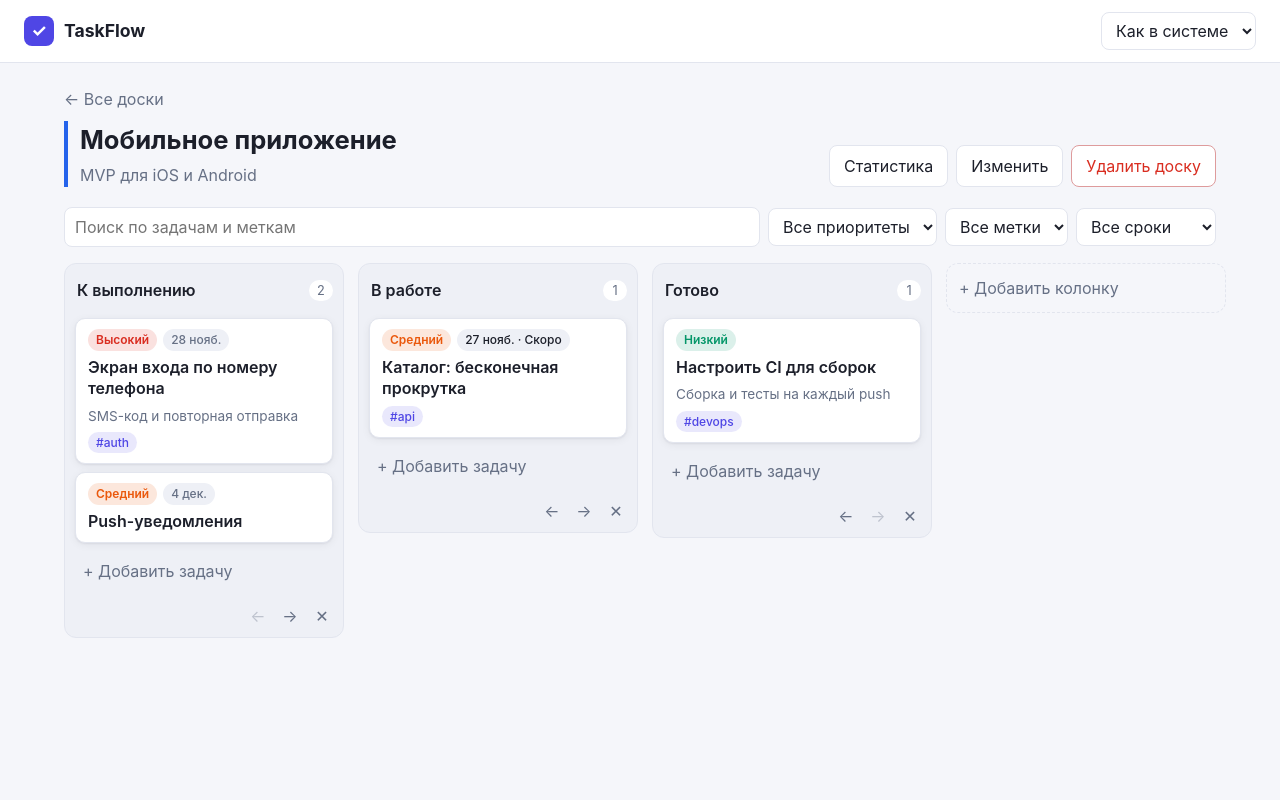
it: задачи на доске › создаёт задачу в колонке с меткой и приоритетом
Click the 1st button "+ Добавить задачу" at {"x": 498, "y": 466}, box [369, 446, 627, 486]
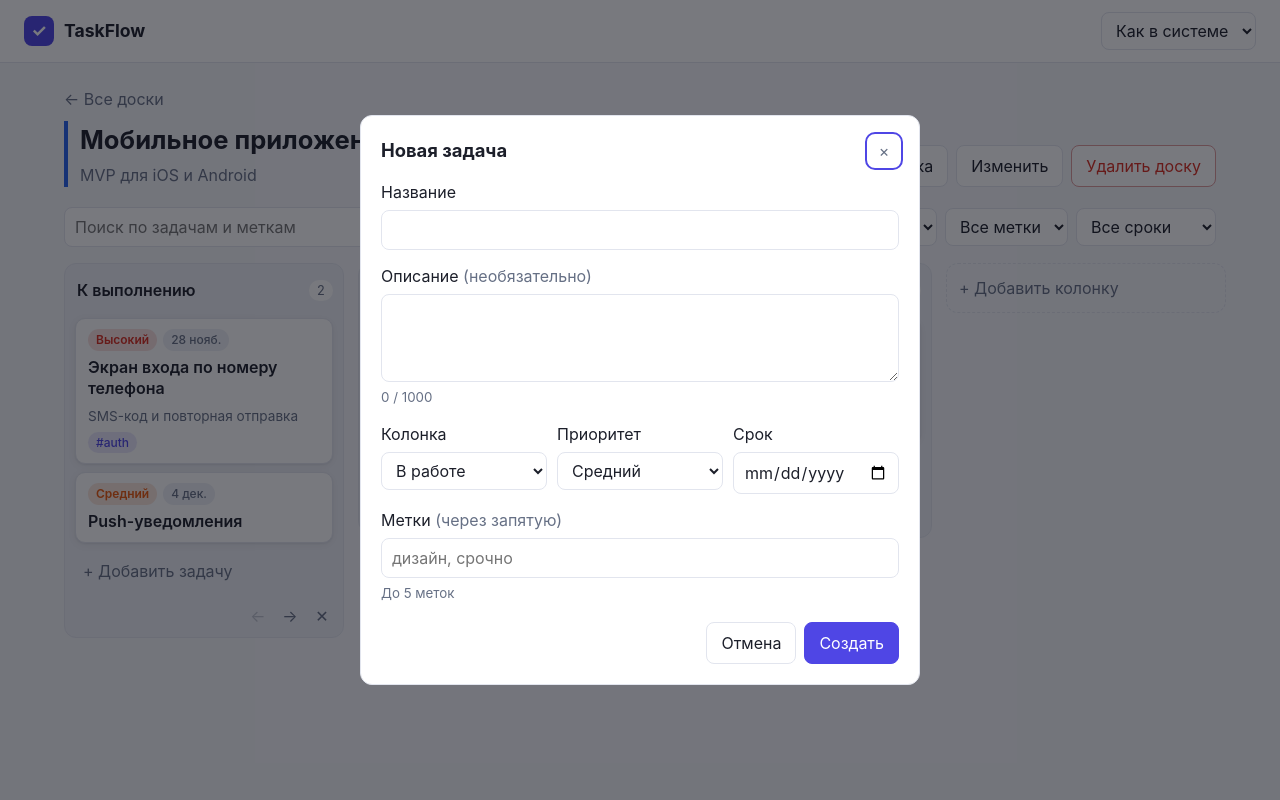
Click the button "Создать" at {"x": 852, "y": 643}, box [804, 622, 899, 664]
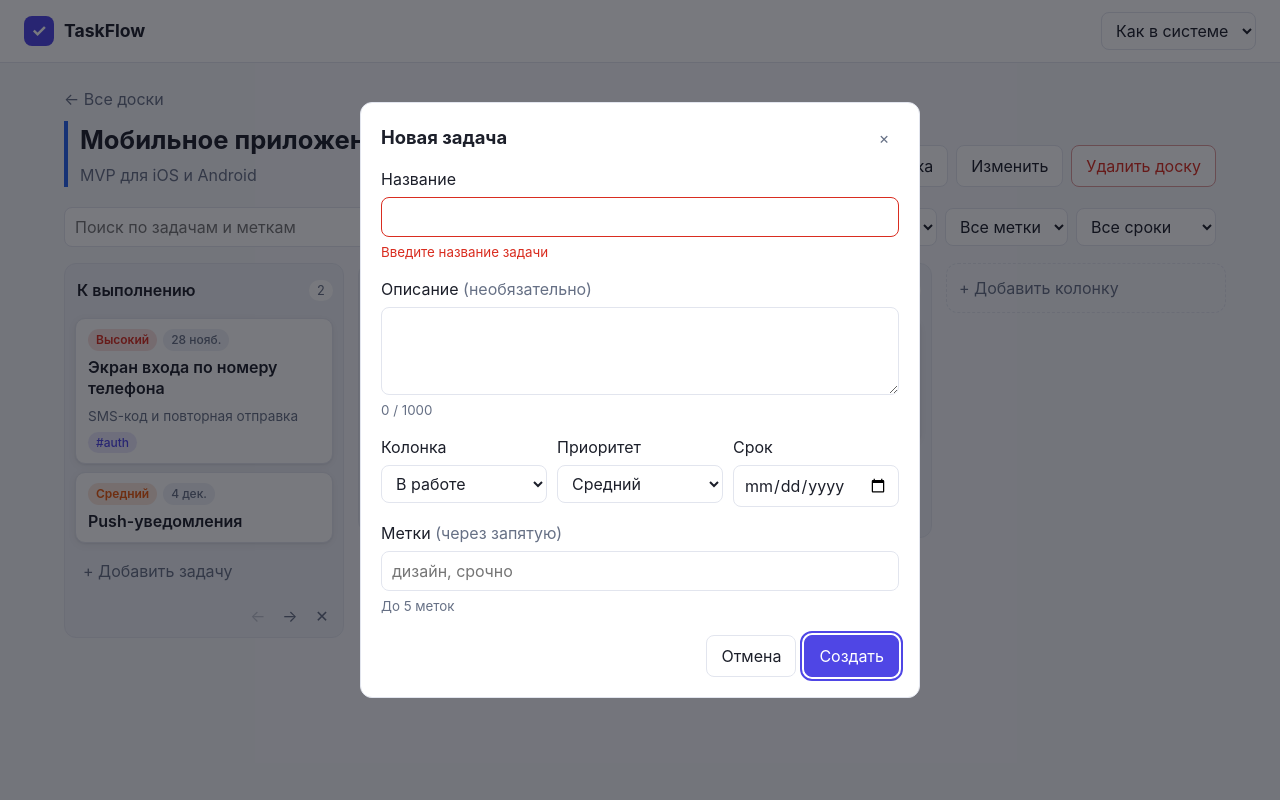
expect the text "Введите название задачи" is shown: met, box [381, 244, 548, 260]
Type "Оплата картой" into the field labelled "Название" at {"x": 640, "y": 217}, box [381, 197, 899, 237]
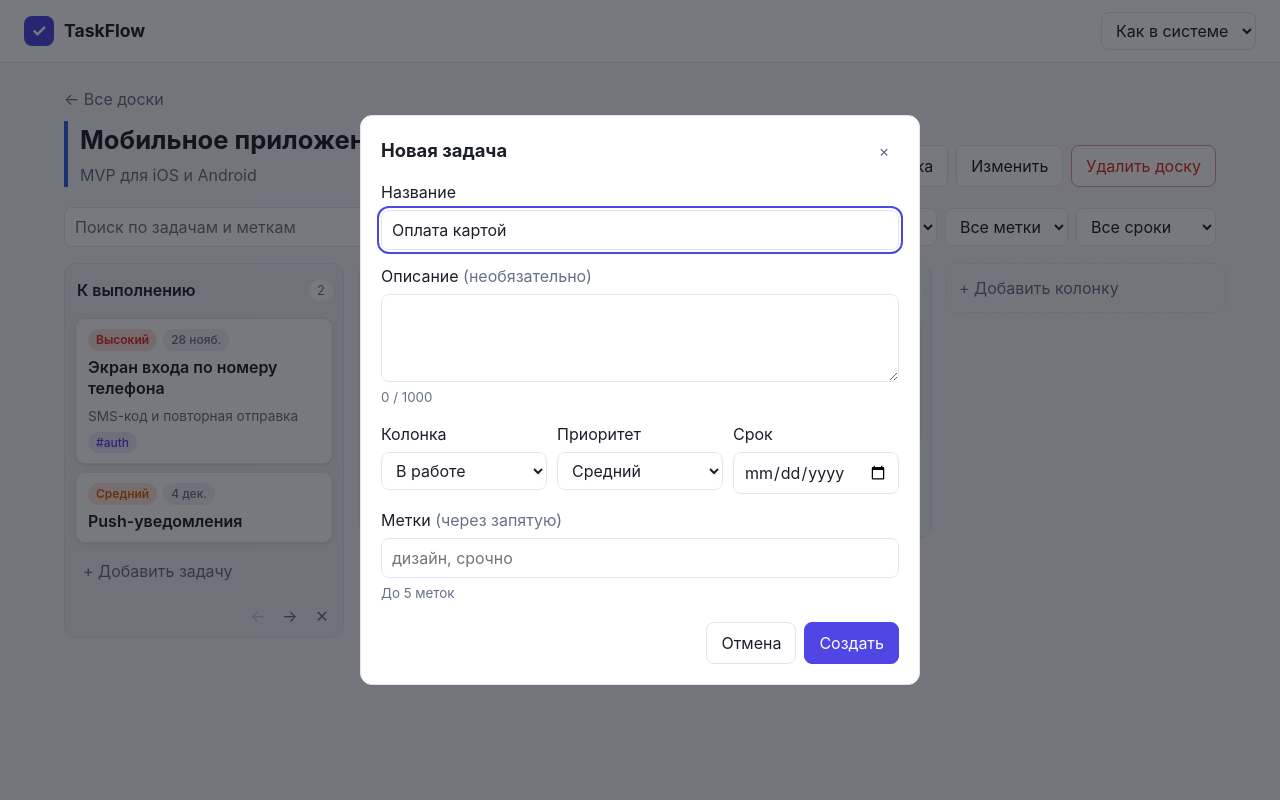
Select "Высокий" in the dropdown labelled "Приоритет" at {"x": 640, "y": 471}, box [557, 452, 723, 490]
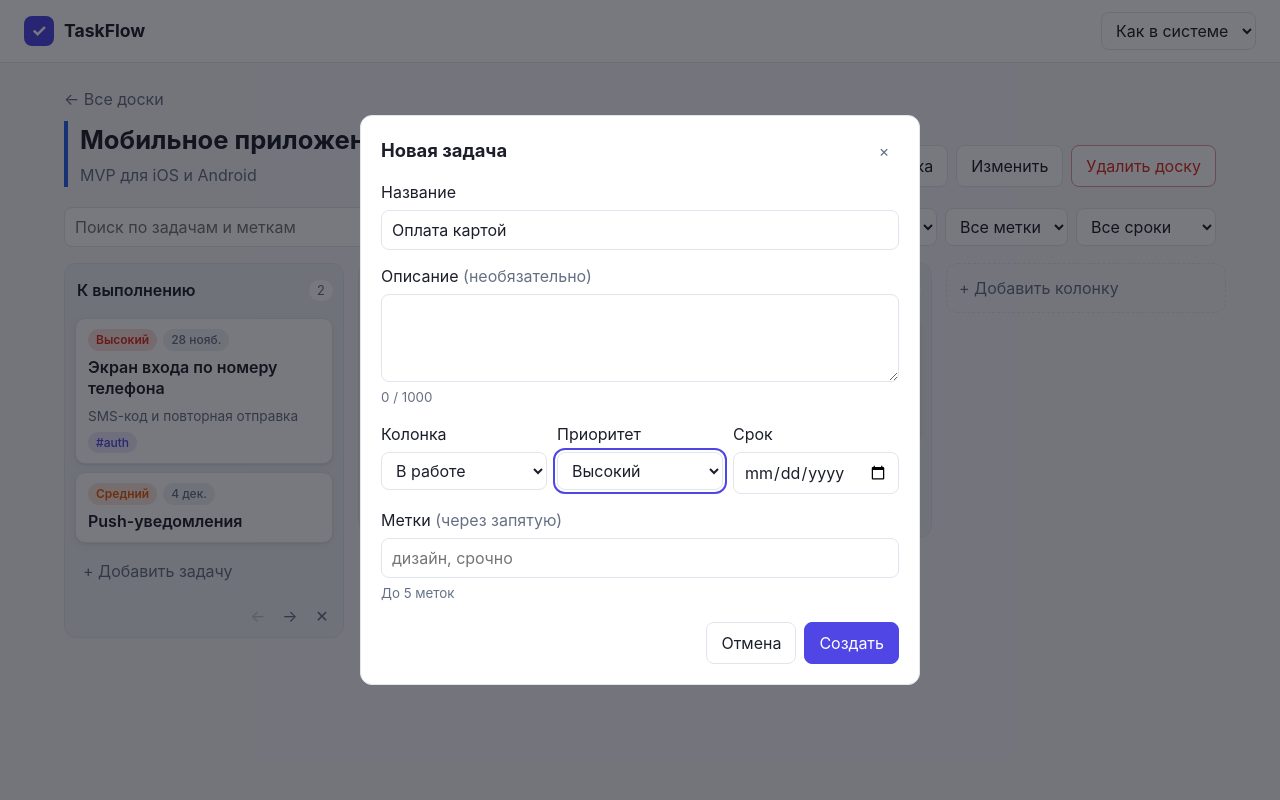
Type "payments" into the field labelled "Метки (через запятую)" at {"x": 640, "y": 558}, box [381, 538, 899, 578]
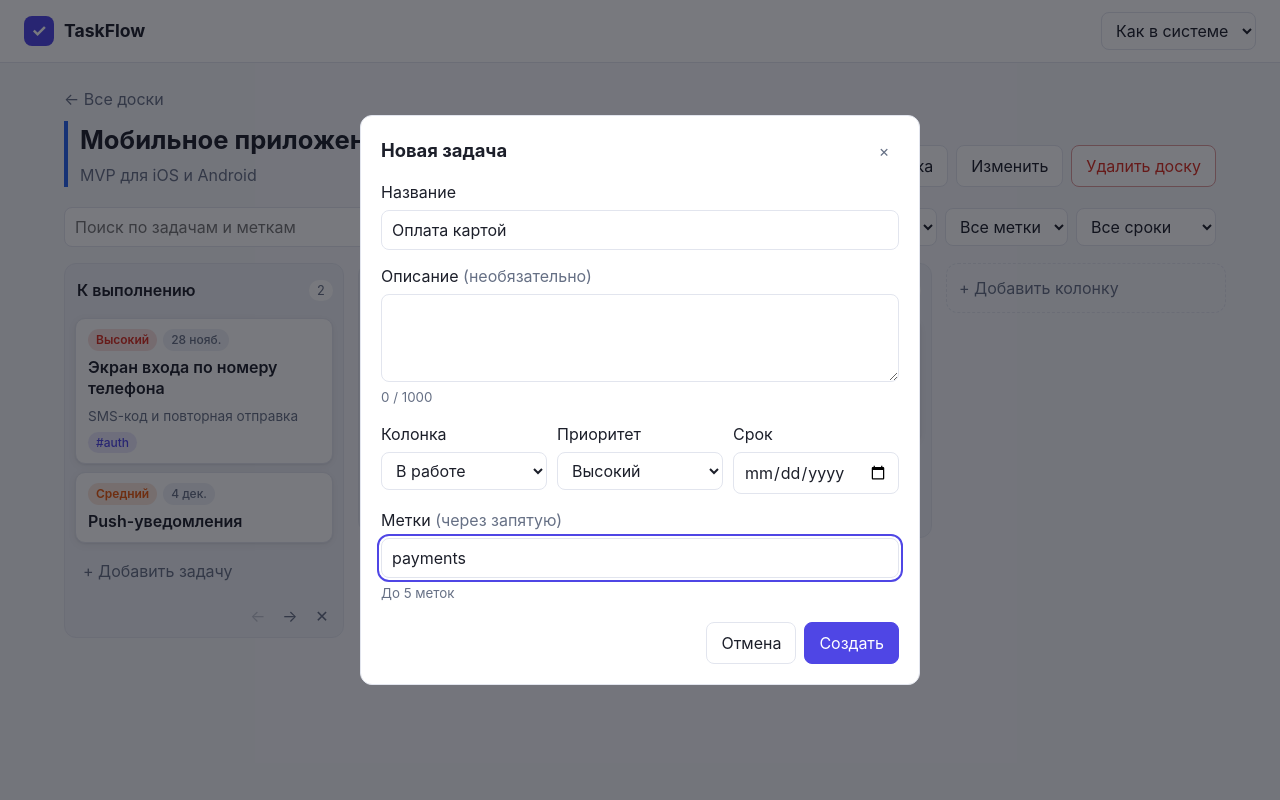
Click the button "Создать" at {"x": 852, "y": 643}, box [804, 622, 899, 664]
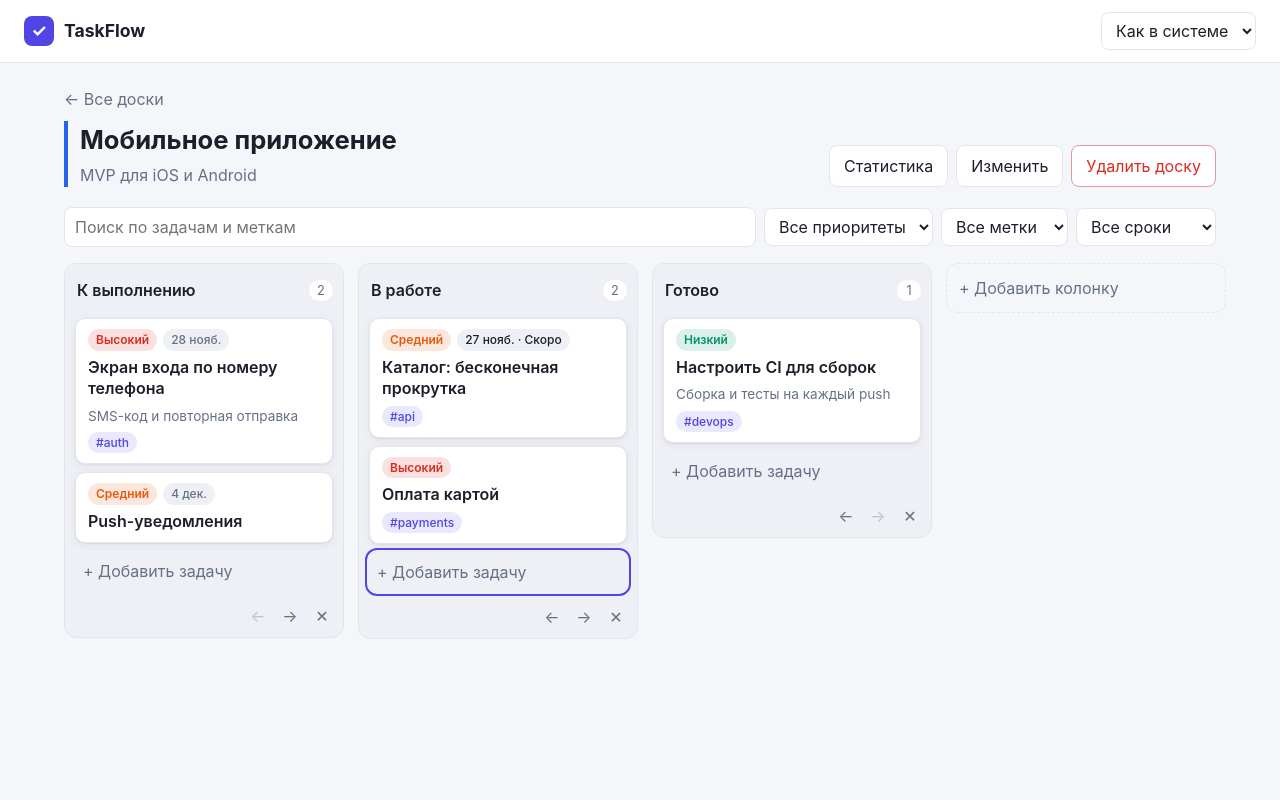
expect the 2nd text "Высокий" is shown: met, box [382, 457, 451, 478]
expect the text "#payments" is shown: met, box [382, 512, 462, 533]
